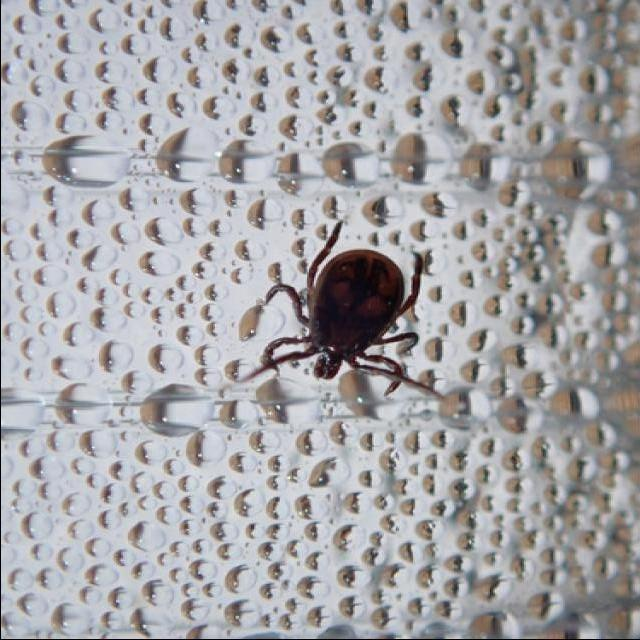Ixodes Ricinus-M: (246, 221, 447, 403)
